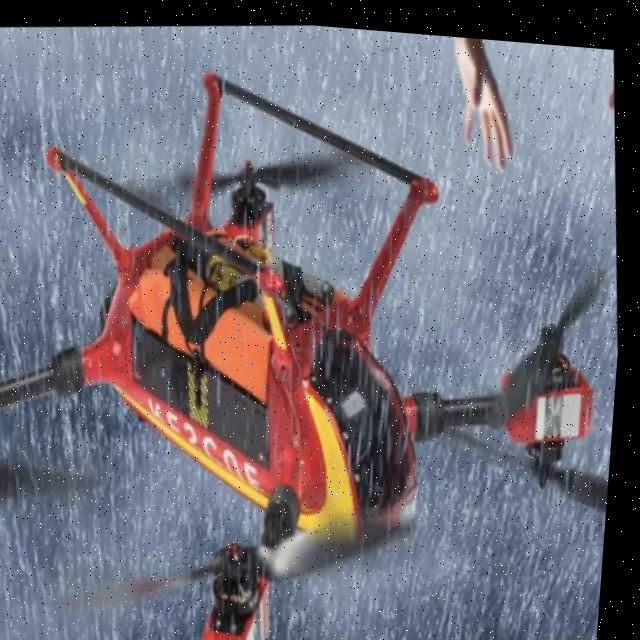drones: (0, 23, 639, 640)
